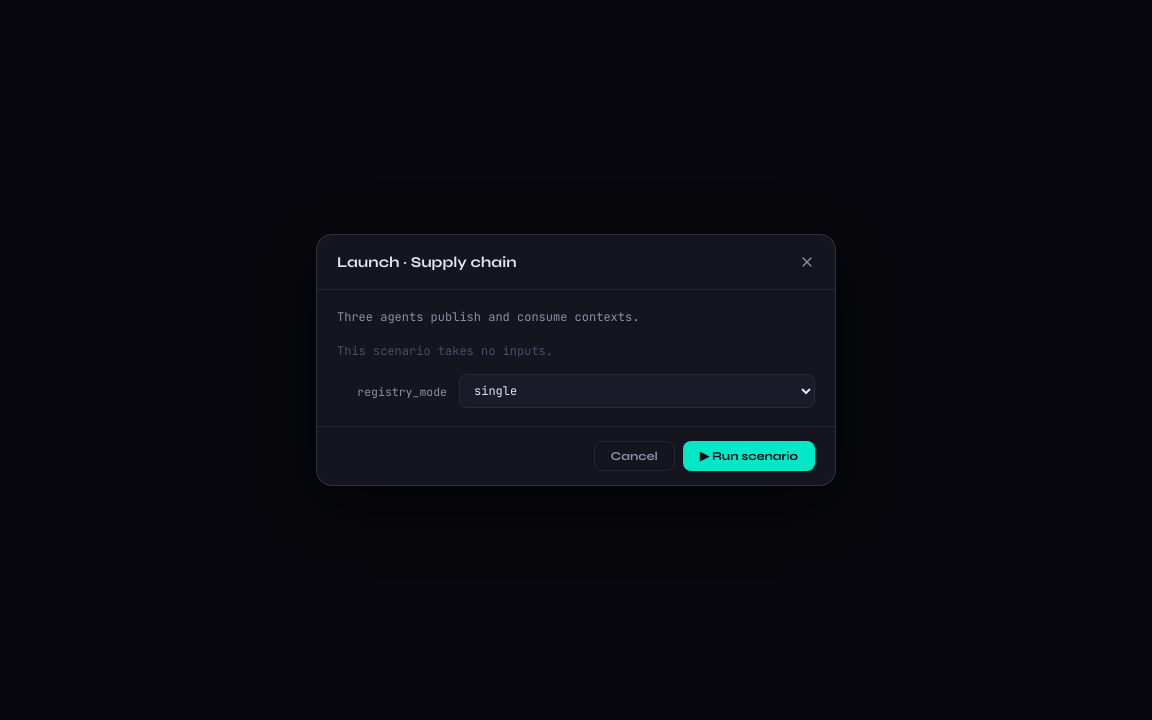
it: the four rejection shapes › a stamped 503 says wait and retry, and does NOT say not-found
Click the button "▶ Run scenario" at (749, 456), box [683,441,815,471]
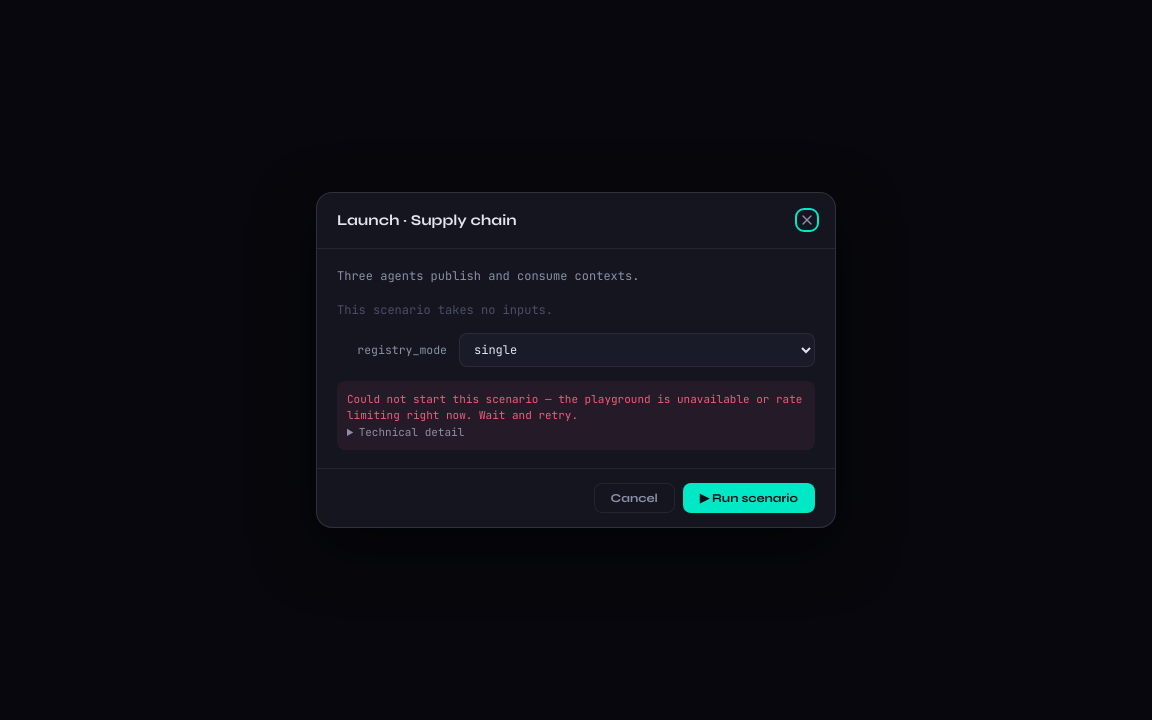
Expected: the text "Could not start this scenario" is shown, [347,392,802,422]
Expected: the text "the playground is unavailable or rate limiting" is shown, [347,392,802,422]
